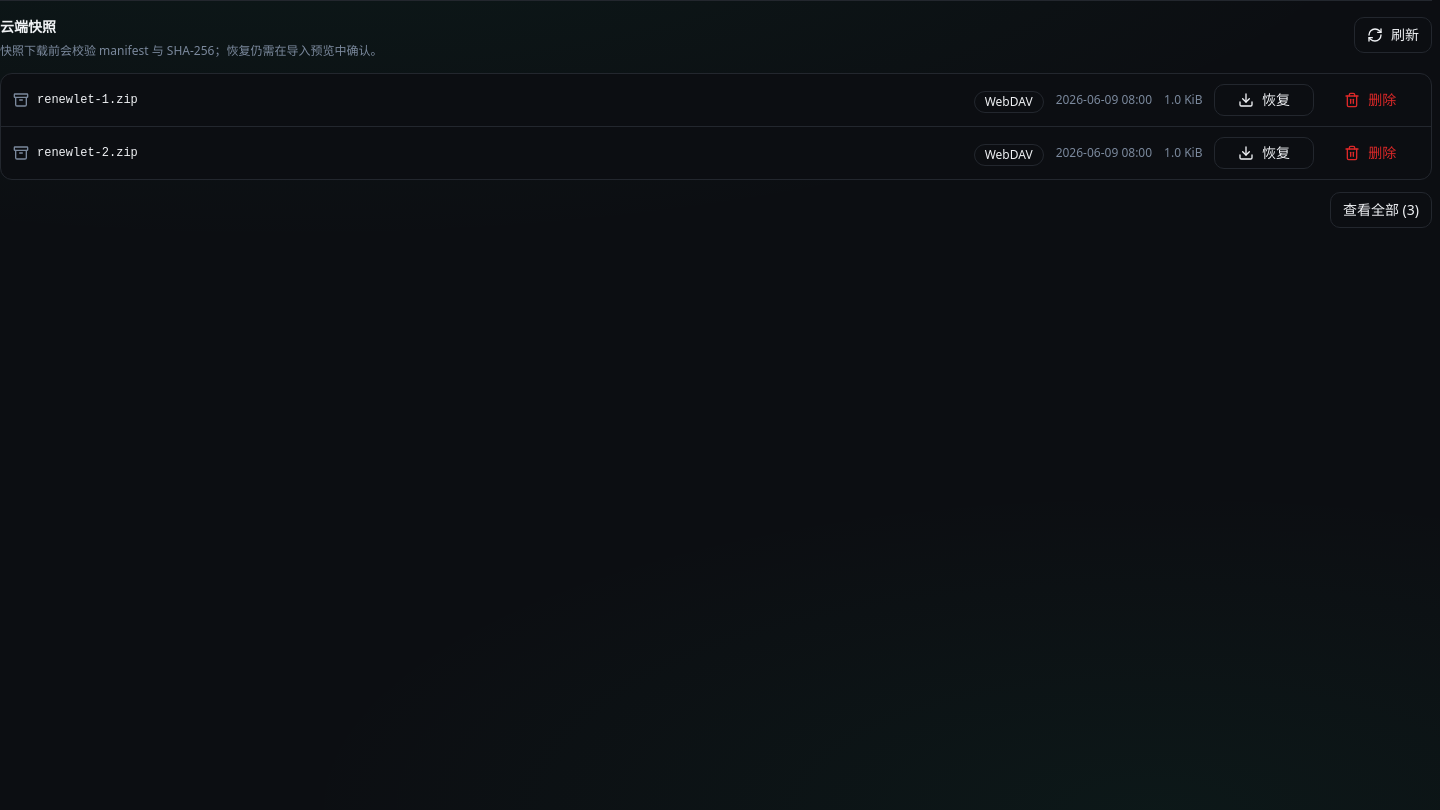
it: CloudBackupSnapshotList › uses the mobile drawer branch for the full list on compact screens
Click the button "查看全部 (3)" at point(1381, 210), box [1330, 192, 1432, 228]
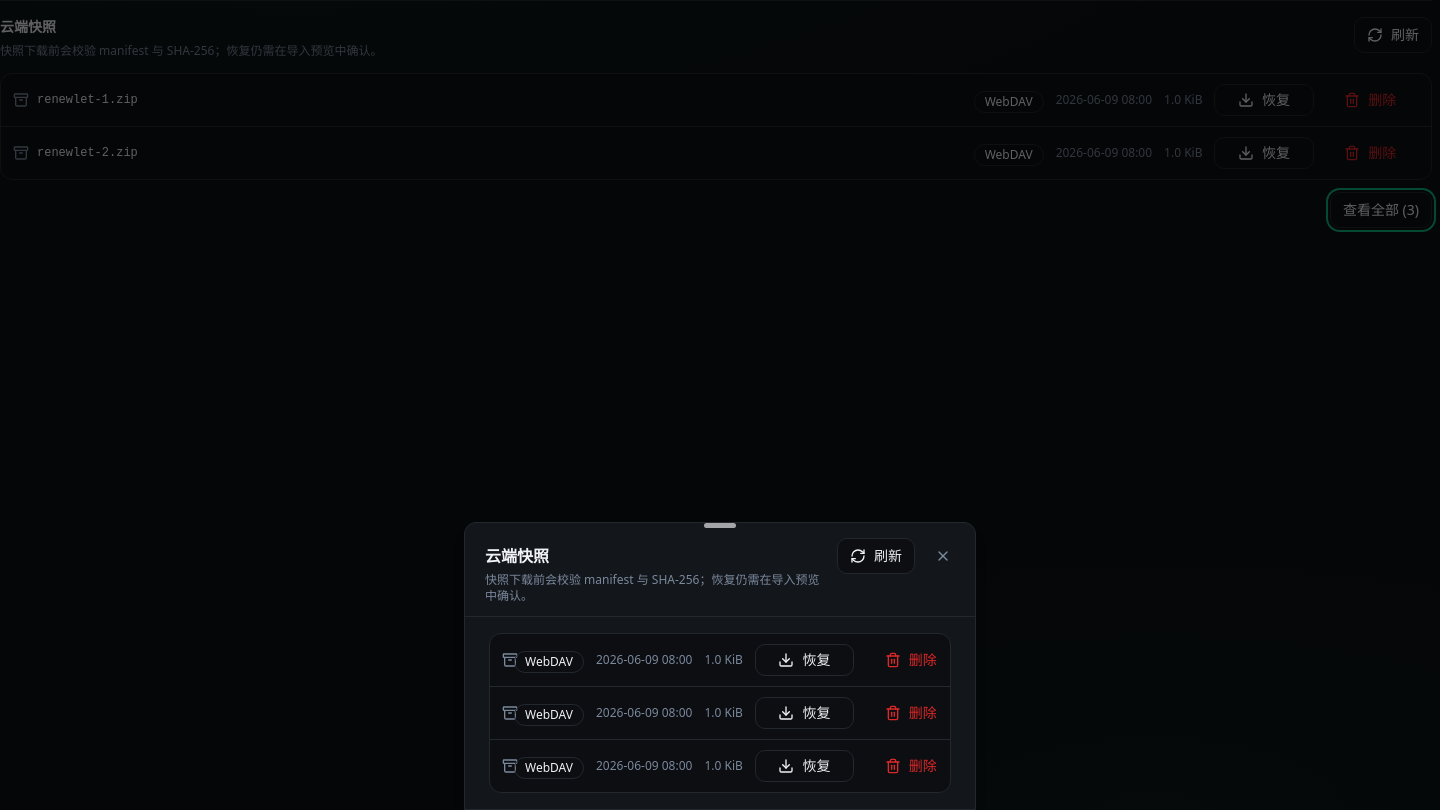
expect the text "云端快照" is shown: met, box [485, 545, 549, 567]
expect the button "刷新" is shown: met, box [837, 538, 915, 574]
expect the button named "关闭" is shown: met, box [923, 536, 963, 576]
